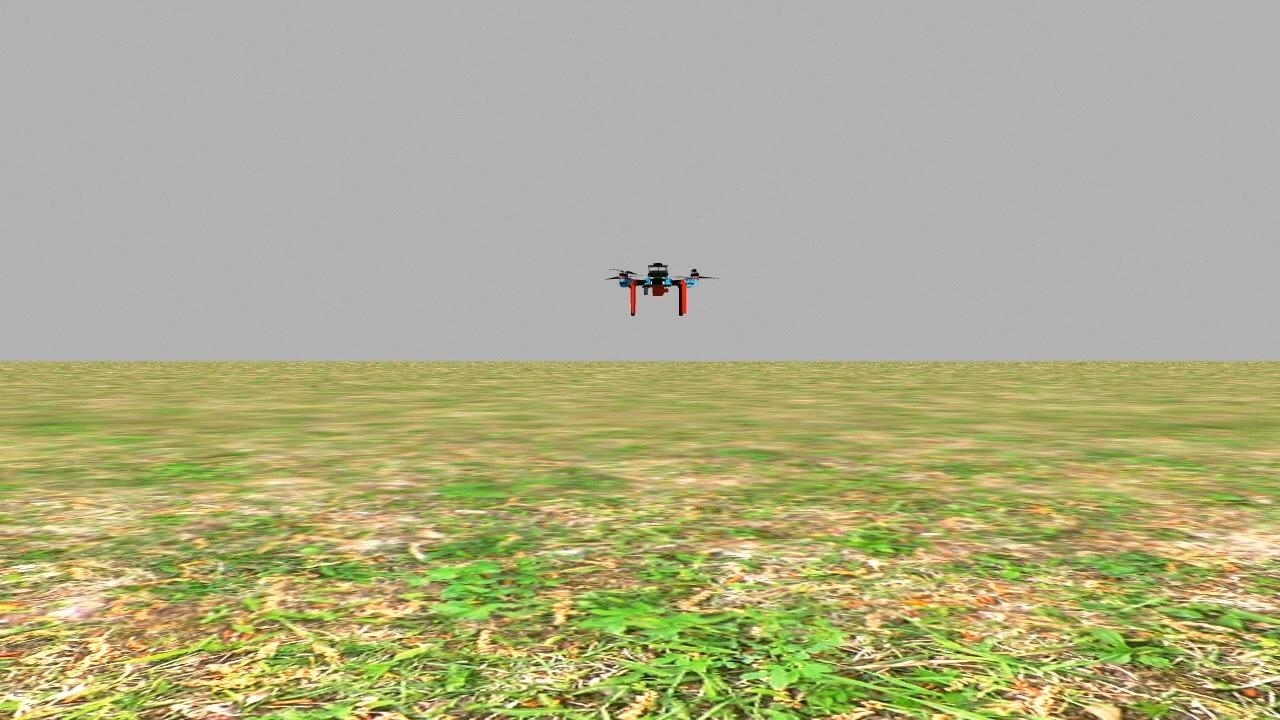UAV: (592, 251, 714, 326)
